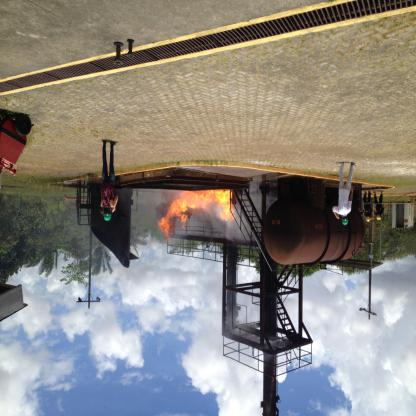fire: (156, 187, 234, 244)
